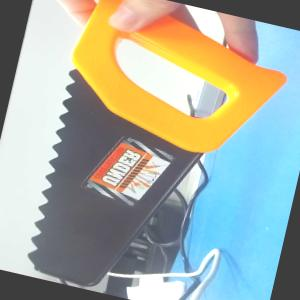serrote: (18, 6, 290, 300)
